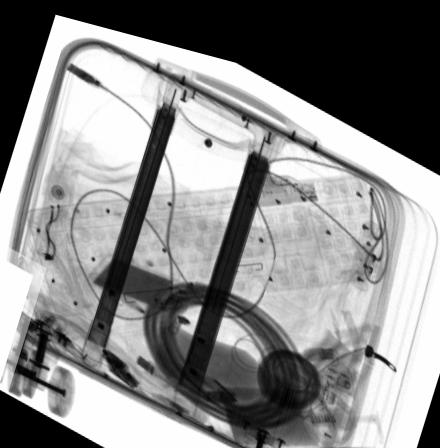Powerbank: (85, 246, 191, 306)
